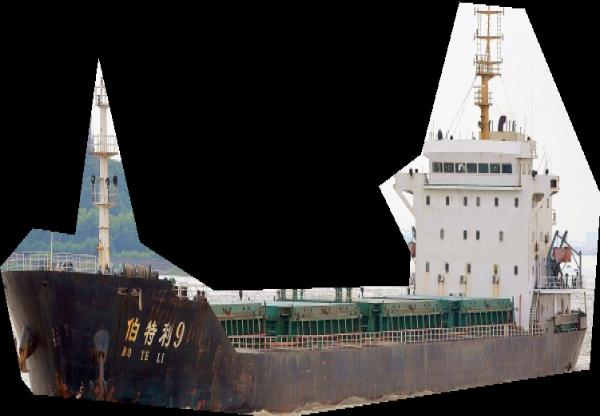Bulkers: (0, 1, 600, 416)
